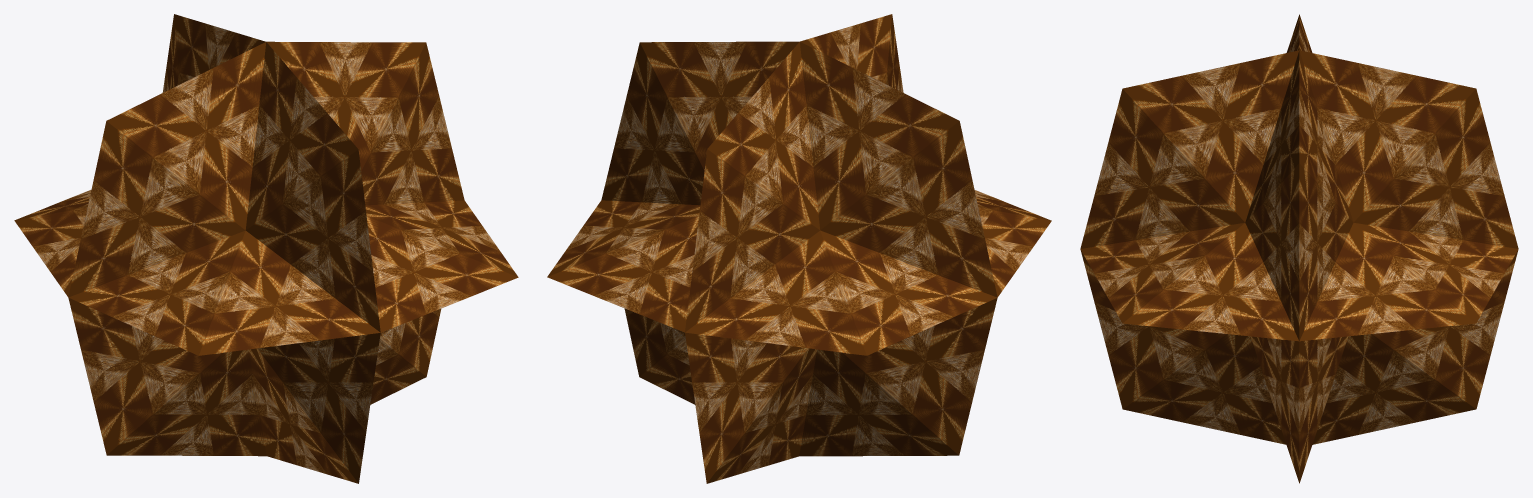
File: 20Mobius48a.obj
3 views of the same model, side by side, from view 1: azimuth 30°, elevation 25°; view 2: azimuth 150°, elevation 25°; view 3: azimuth 270°, elevation 25° (orthographic). The views are drawn at different scales.
Bounding box in the file's own units: 2.41 × 2.41 × 2.41.
Materials: 1 (1 with a texture image).
